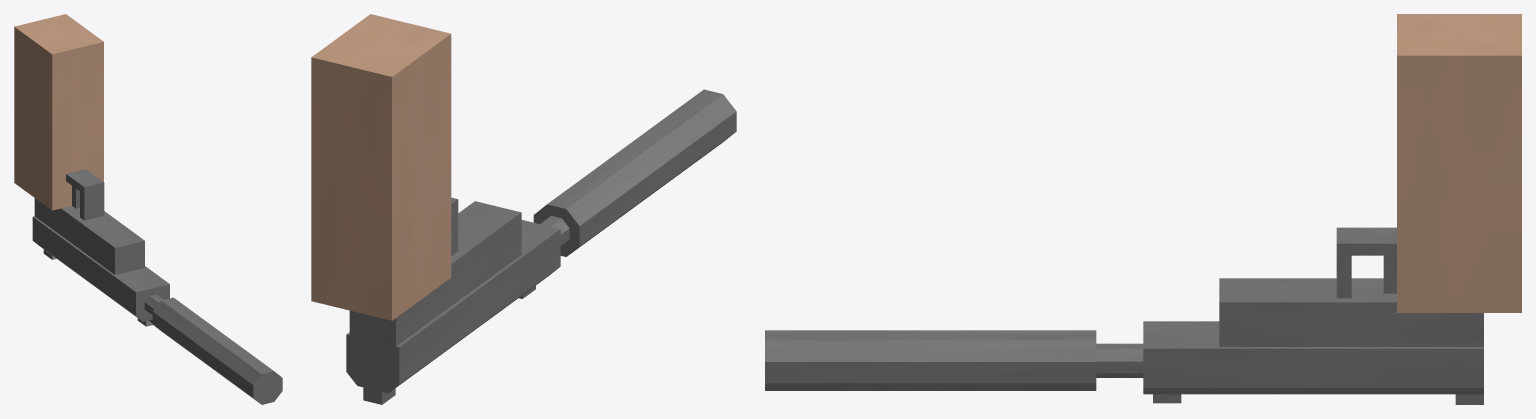
The model's file is pistol.obj.
3 views of the same model, side by side, from view 1: azimuth 30°, elevation 25°; view 2: azimuth 150°, elevation 25°; view 3: azimuth 270°, elevation 25° (orthographic). The views are drawn at different scales.
Bounding box in the file's own units: 2.6 × 10.7 × 20.
2 materials, 2 textured.
